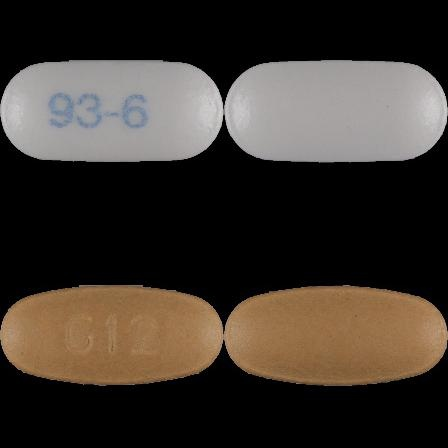68151-2609: (0, 0, 224, 224)
